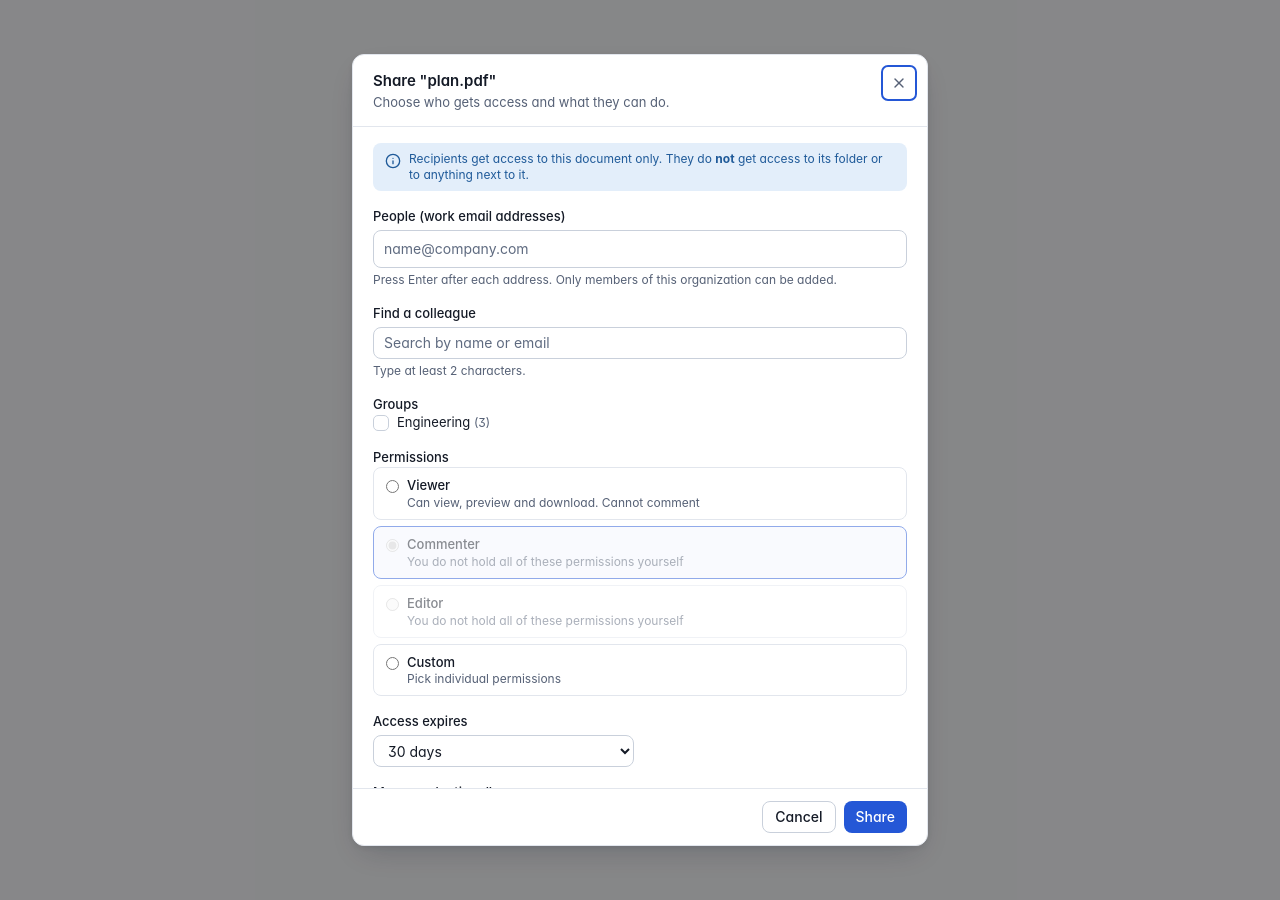
Test: ShareDialog › validates: needs at least one recipient
This screenshot has width=1280, height=900.
Step 1. Click the button "Share" → coordinates (875, 817), box [844, 801, 907, 833]
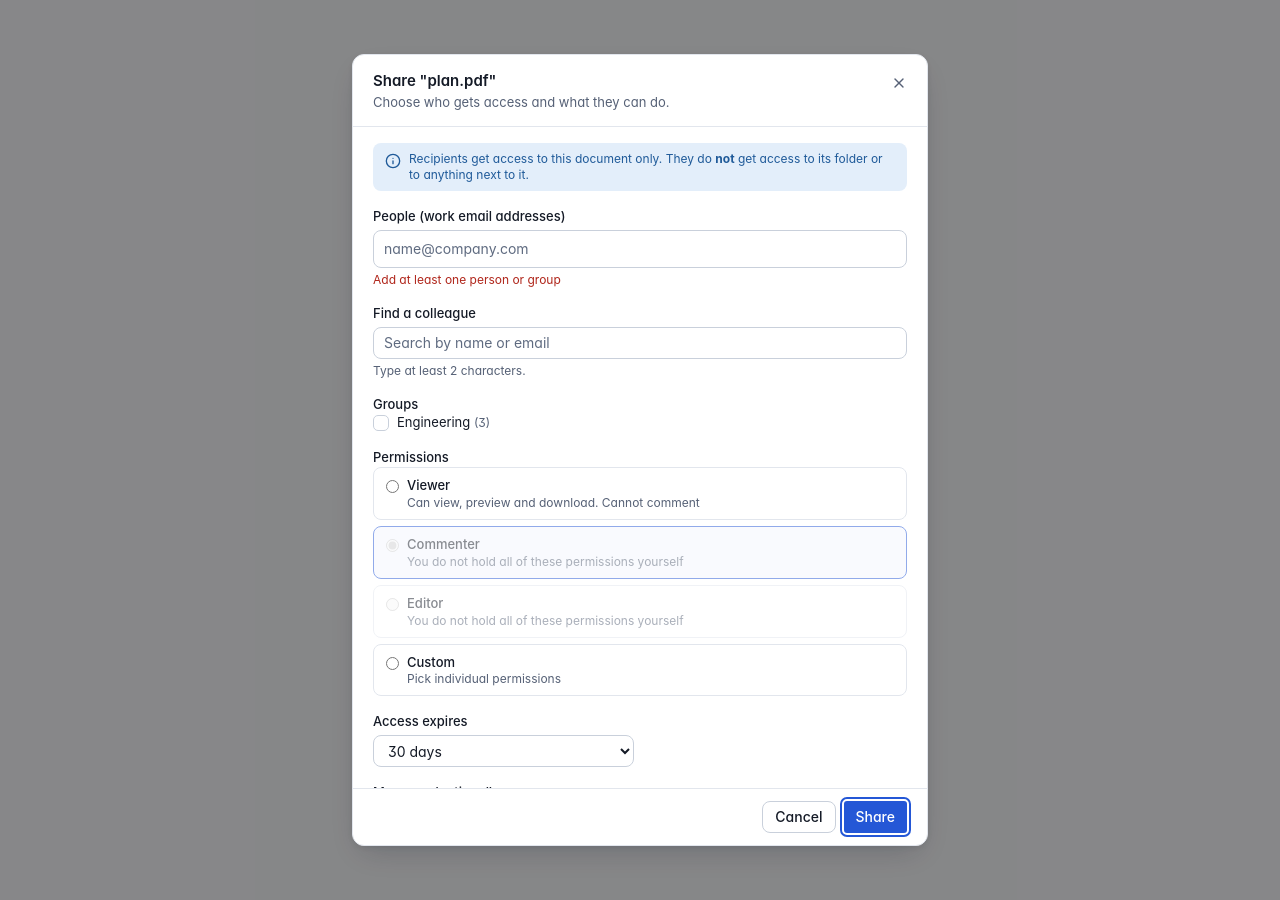
Expected: the text "Add at least one person or group" is shown, [373, 272, 561, 287]
